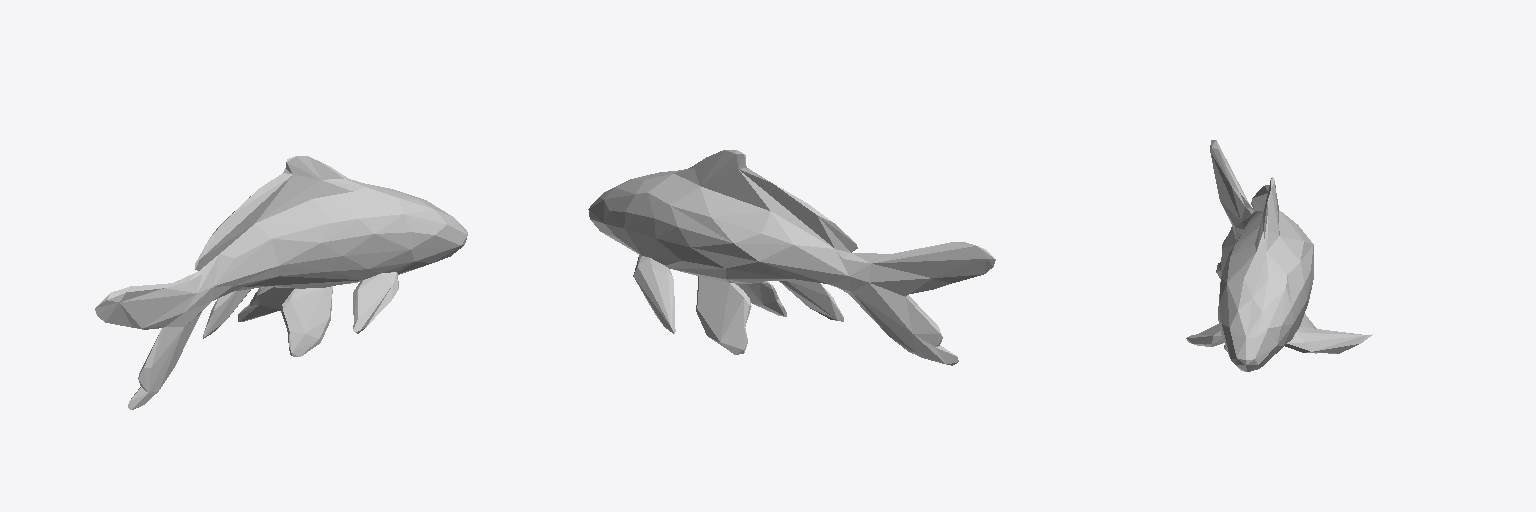
Rendered from koifish.obj.
3 views of the same model, side by side, from view 1: azimuth 30°, elevation 25°; view 2: azimuth 150°, elevation 25°; view 3: azimuth 270°, elevation 25° (orthographic).
Parts seen in each view (by area): view 1: koifish; view 2: koifish; view 3: koifish.
Boxes of the visible parts, x1,y1,x2,y2 form: koifish: [95, 156, 467, 409]; koifish: [588, 150, 995, 365]; koifish: [1186, 140, 1372, 371].
Size of the model in its own units: 6.25 by 2.89 by 2.6.